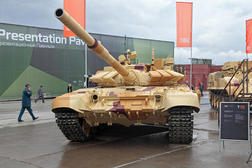t72: (53, 7, 197, 143)
